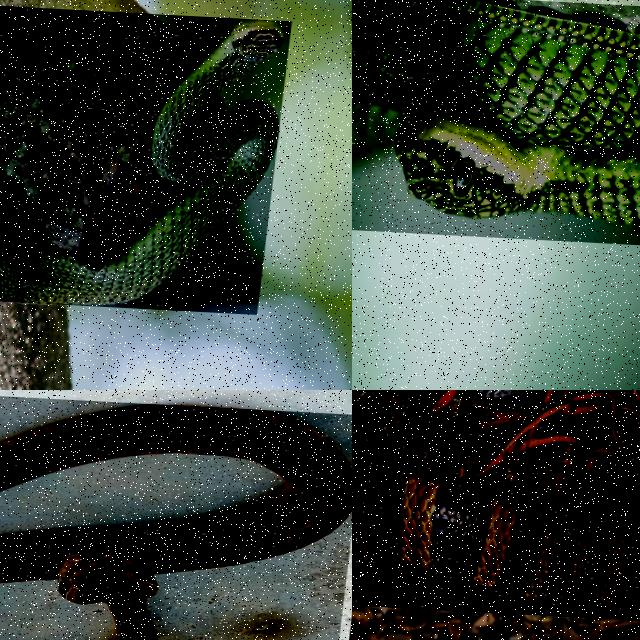Bungarus fasciatus: (352, 474, 639, 607)
Calloselasma rhodostoma: (0, 406, 351, 639)
Chrysopelea ornata: (0, 18, 282, 303), (352, 0, 639, 231)
snake: (0, 406, 351, 639), (0, 18, 282, 303), (352, 0, 639, 231), (352, 474, 639, 607)
